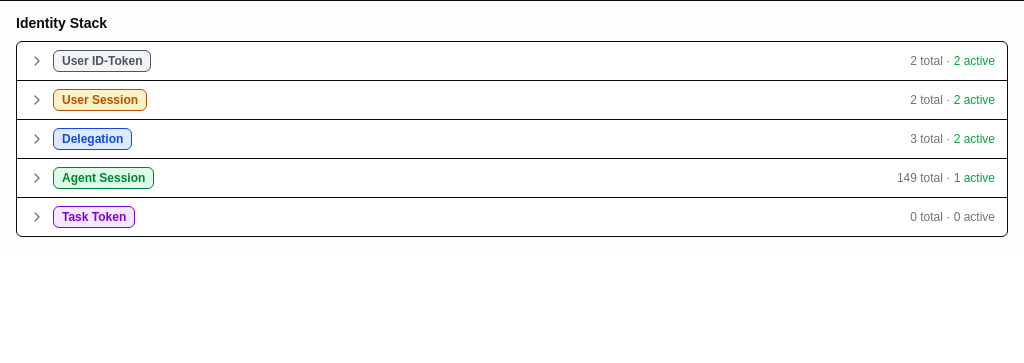
Test: IdentityStackPanel › User ID-Token shows delegator groups when items exist
This screenshot has width=1024, height=363.
Click the text "User ID-Token" at (102, 61), box [53, 50, 152, 72]
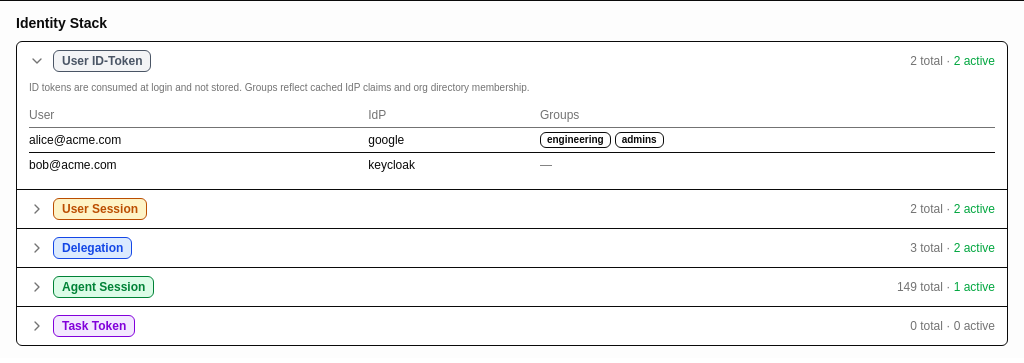
expect the text "engineering" is shown: met, box [540, 132, 611, 148]
expect the text "admins" is shown: met, box [615, 132, 664, 148]
expect the text "ID tokens are consumed at login" is shown: met, box [29, 82, 530, 93]
